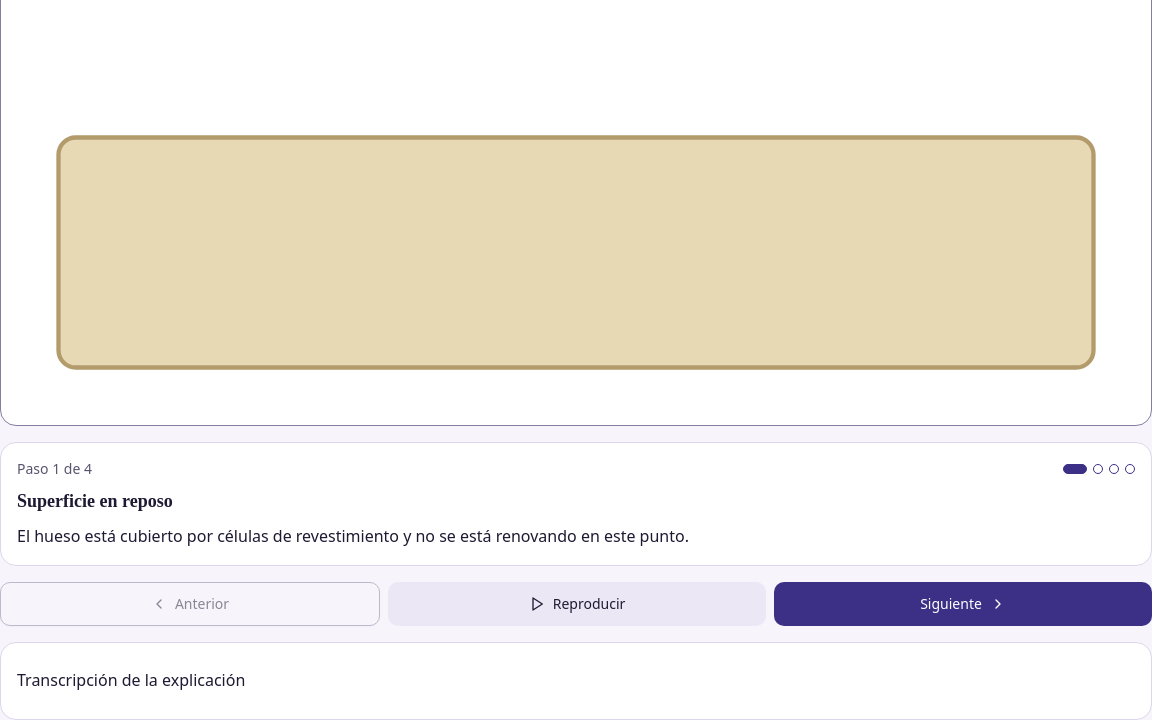
Test: animación: flujo feliz › completa al llegar al último paso con el detalle, el puntaje y el foco en el resultado
(page scrolled)
Click the button with test id "siguiente" at point(963, 604), box [774,582,1151,626]
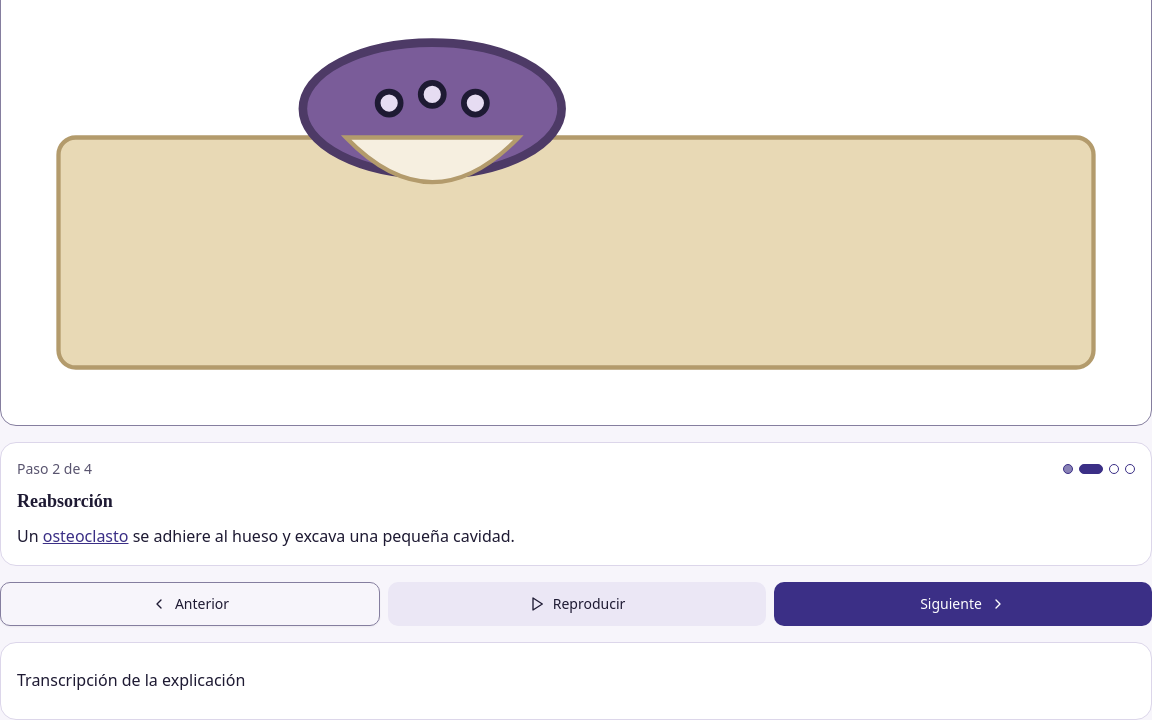
Click the button with test id "siguiente" at point(963, 604), box [774,582,1151,626]
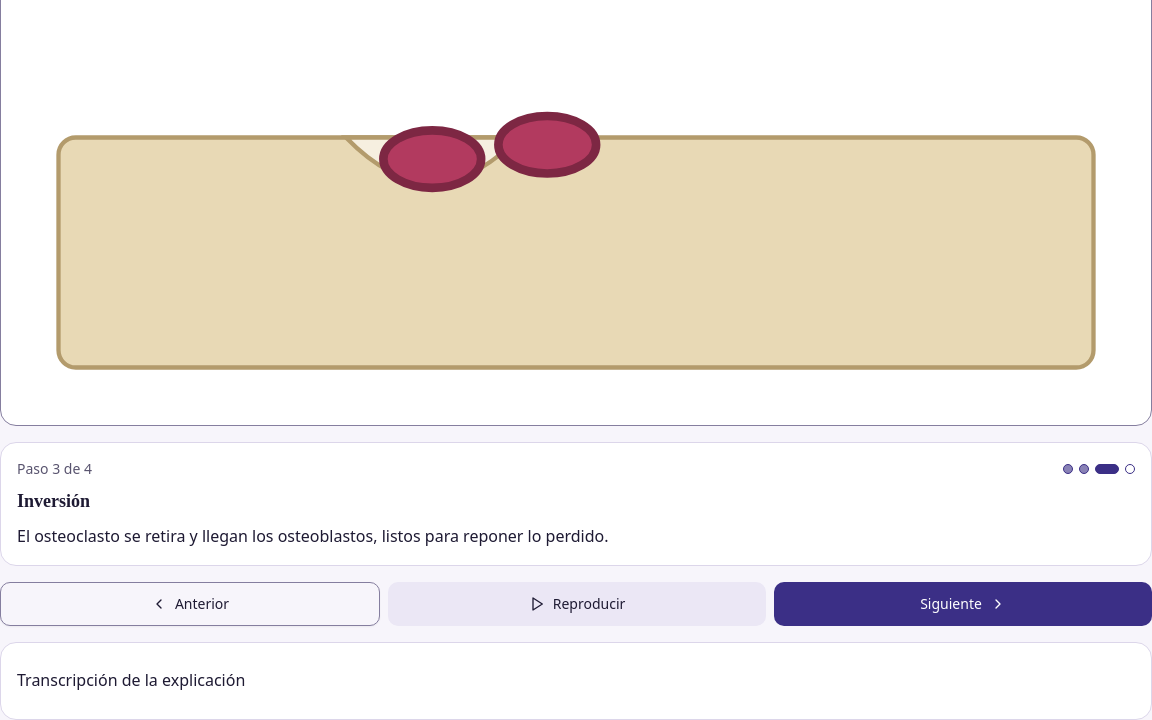
Click the button with test id "siguiente" at point(963, 604), box [774,582,1151,626]
(page scrolled)
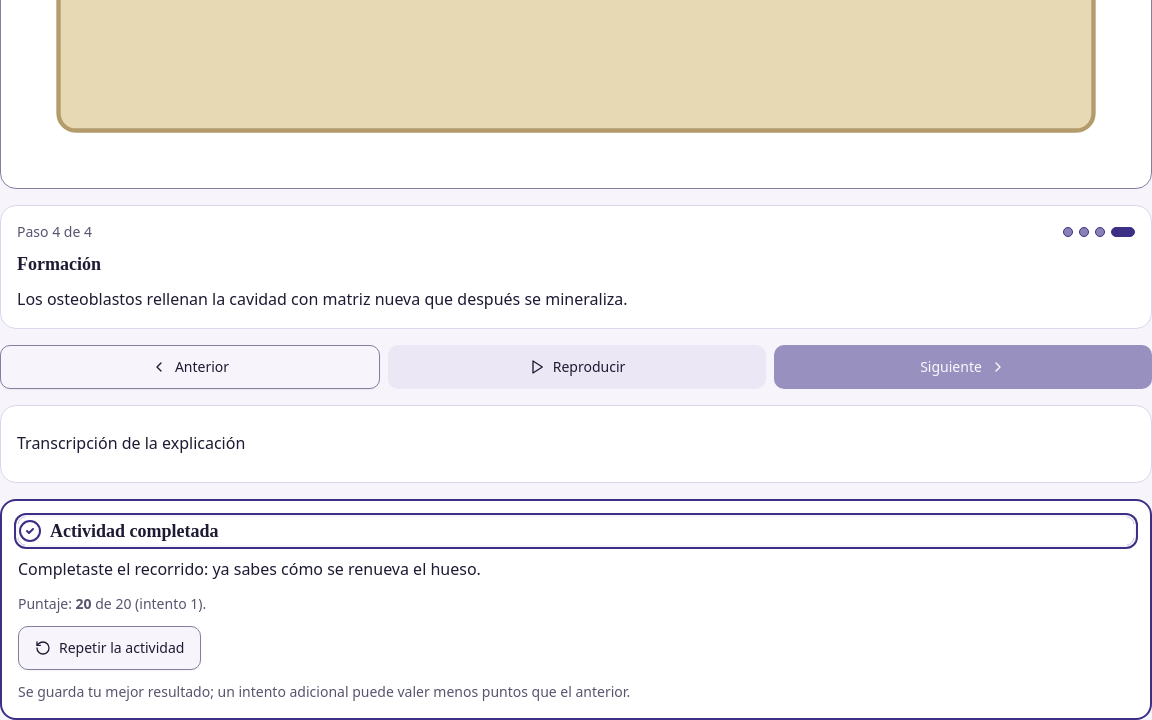
Expected: the element with test id "retroalimentacion" reads "Completaste el recorrido: ya sabes cómo se renueva el hueso.", [18,558,481,580]
Expected: the element with test id "puntaje-obtenido" shows "20 de 20", [18,594,206,613]
